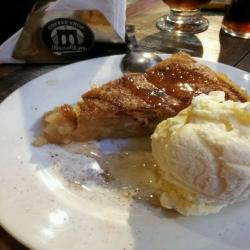apple_pie: (45, 45, 245, 154)
icecream: (149, 94, 250, 216)
